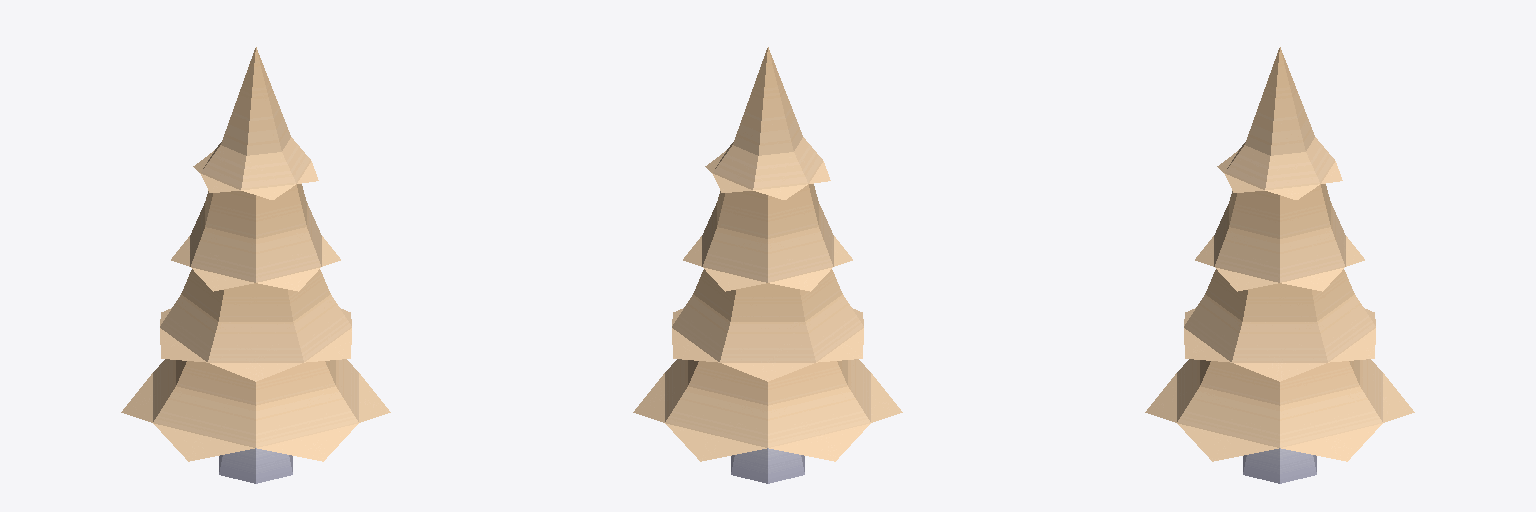
3 renders of one model, left to right at view 1: azimuth 30°, elevation 25°; view 2: azimuth 150°, elevation 25°; view 3: azimuth 270°, elevation 25°, orthographic.
Parts seen in each view (by area): view 1: pine.001; view 2: pine.001; view 3: pine.001.
Boxes of the visible parts, box(x1,y1,x2,y2) form: pine.001: box(121, 47, 390, 483); pine.001: box(633, 47, 902, 483); pine.001: box(1145, 47, 1414, 483).
Bounding box in the file's own units: 2.89 × 5.61 × 3.27.
1 materials, 1 textured.